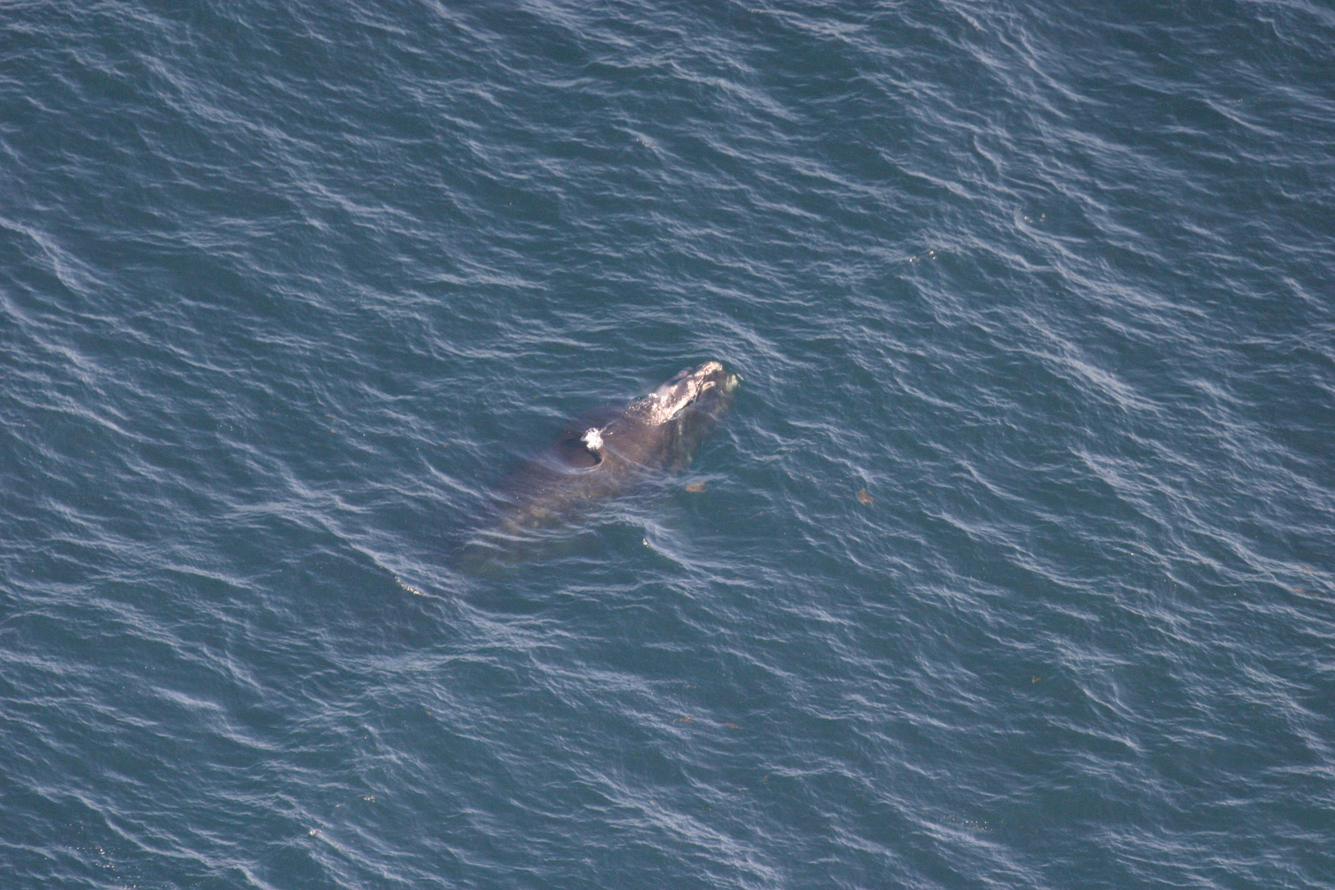whale: (396, 355, 746, 637)
